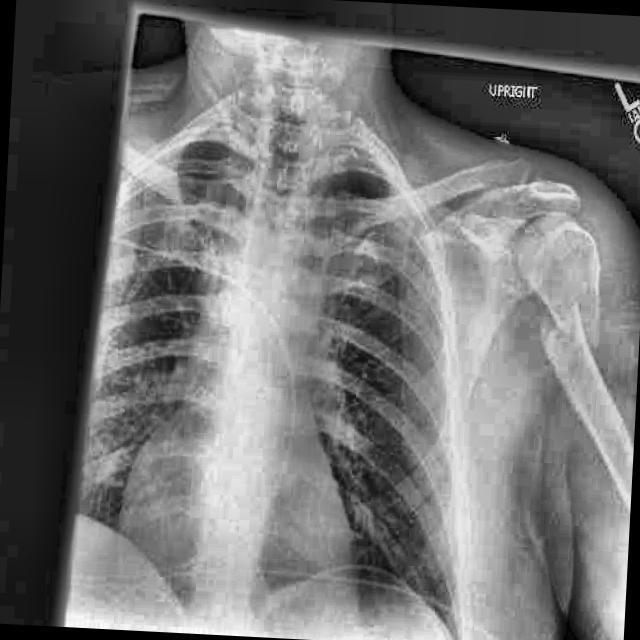shoulder fracture: (528, 277, 601, 363), (489, 148, 562, 219)
